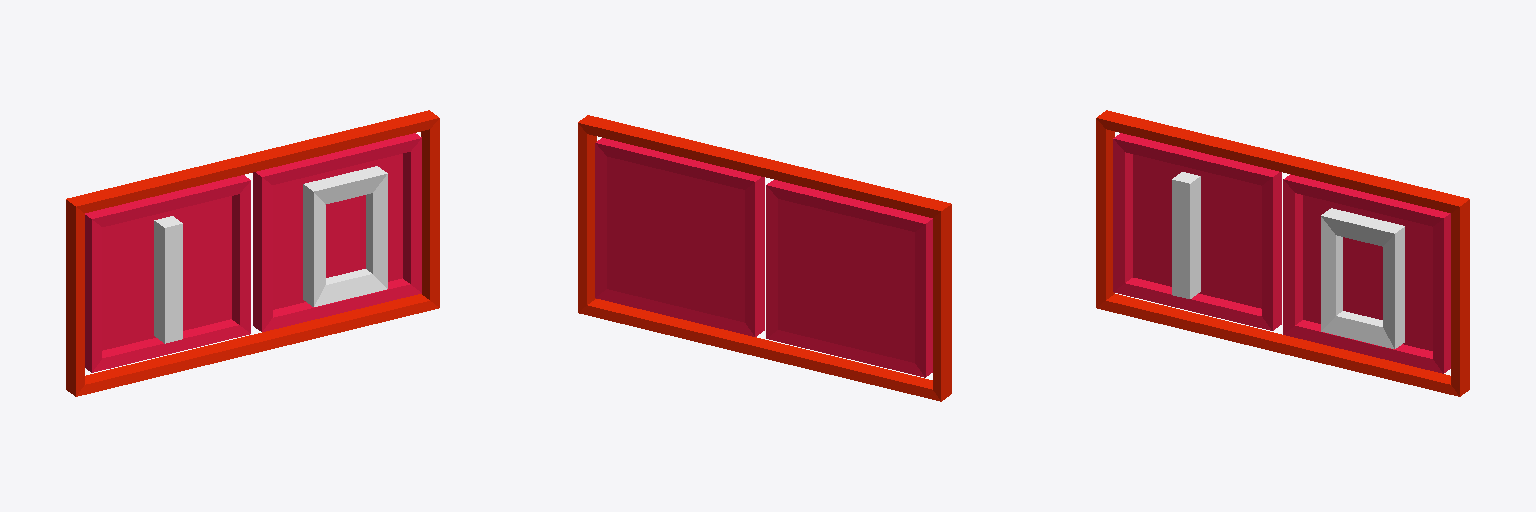
The model's file is switch-component.obj.
The picture shows the model from 3 angles: view 1: azimuth 30°, elevation 25°; view 2: azimuth 150°, elevation 25°; view 3: azimuth 330°, elevation 25°; orthographic projection.
Visible parts, largest first — view 1: OnFrame, Frame, OffFrame, Zero, One; view 2: OffFrame, OnFrame, Frame; view 3: OnFrame, Frame, OffFrame, Zero, One.
Part boxes in pixels (x1,y1,x2,y2): OnFrame: (85, 175, 250, 372); Frame: (66, 110, 439, 396); OffFrame: (253, 133, 421, 331); Zero: (303, 166, 387, 306); One: (154, 216, 182, 343); OffFrame: (595, 138, 764, 336); OnFrame: (766, 180, 932, 377); Frame: (578, 115, 951, 401); OnFrame: (1113, 133, 1281, 330); Frame: (1096, 110, 1469, 396); OffFrame: (1283, 174, 1450, 373); Zero: (1321, 208, 1404, 348); One: (1172, 172, 1200, 298).
Size of the model in its own units: 0.02 by 0.01 by 0.0016.